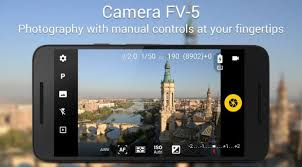camera: (225, 93, 243, 111)
